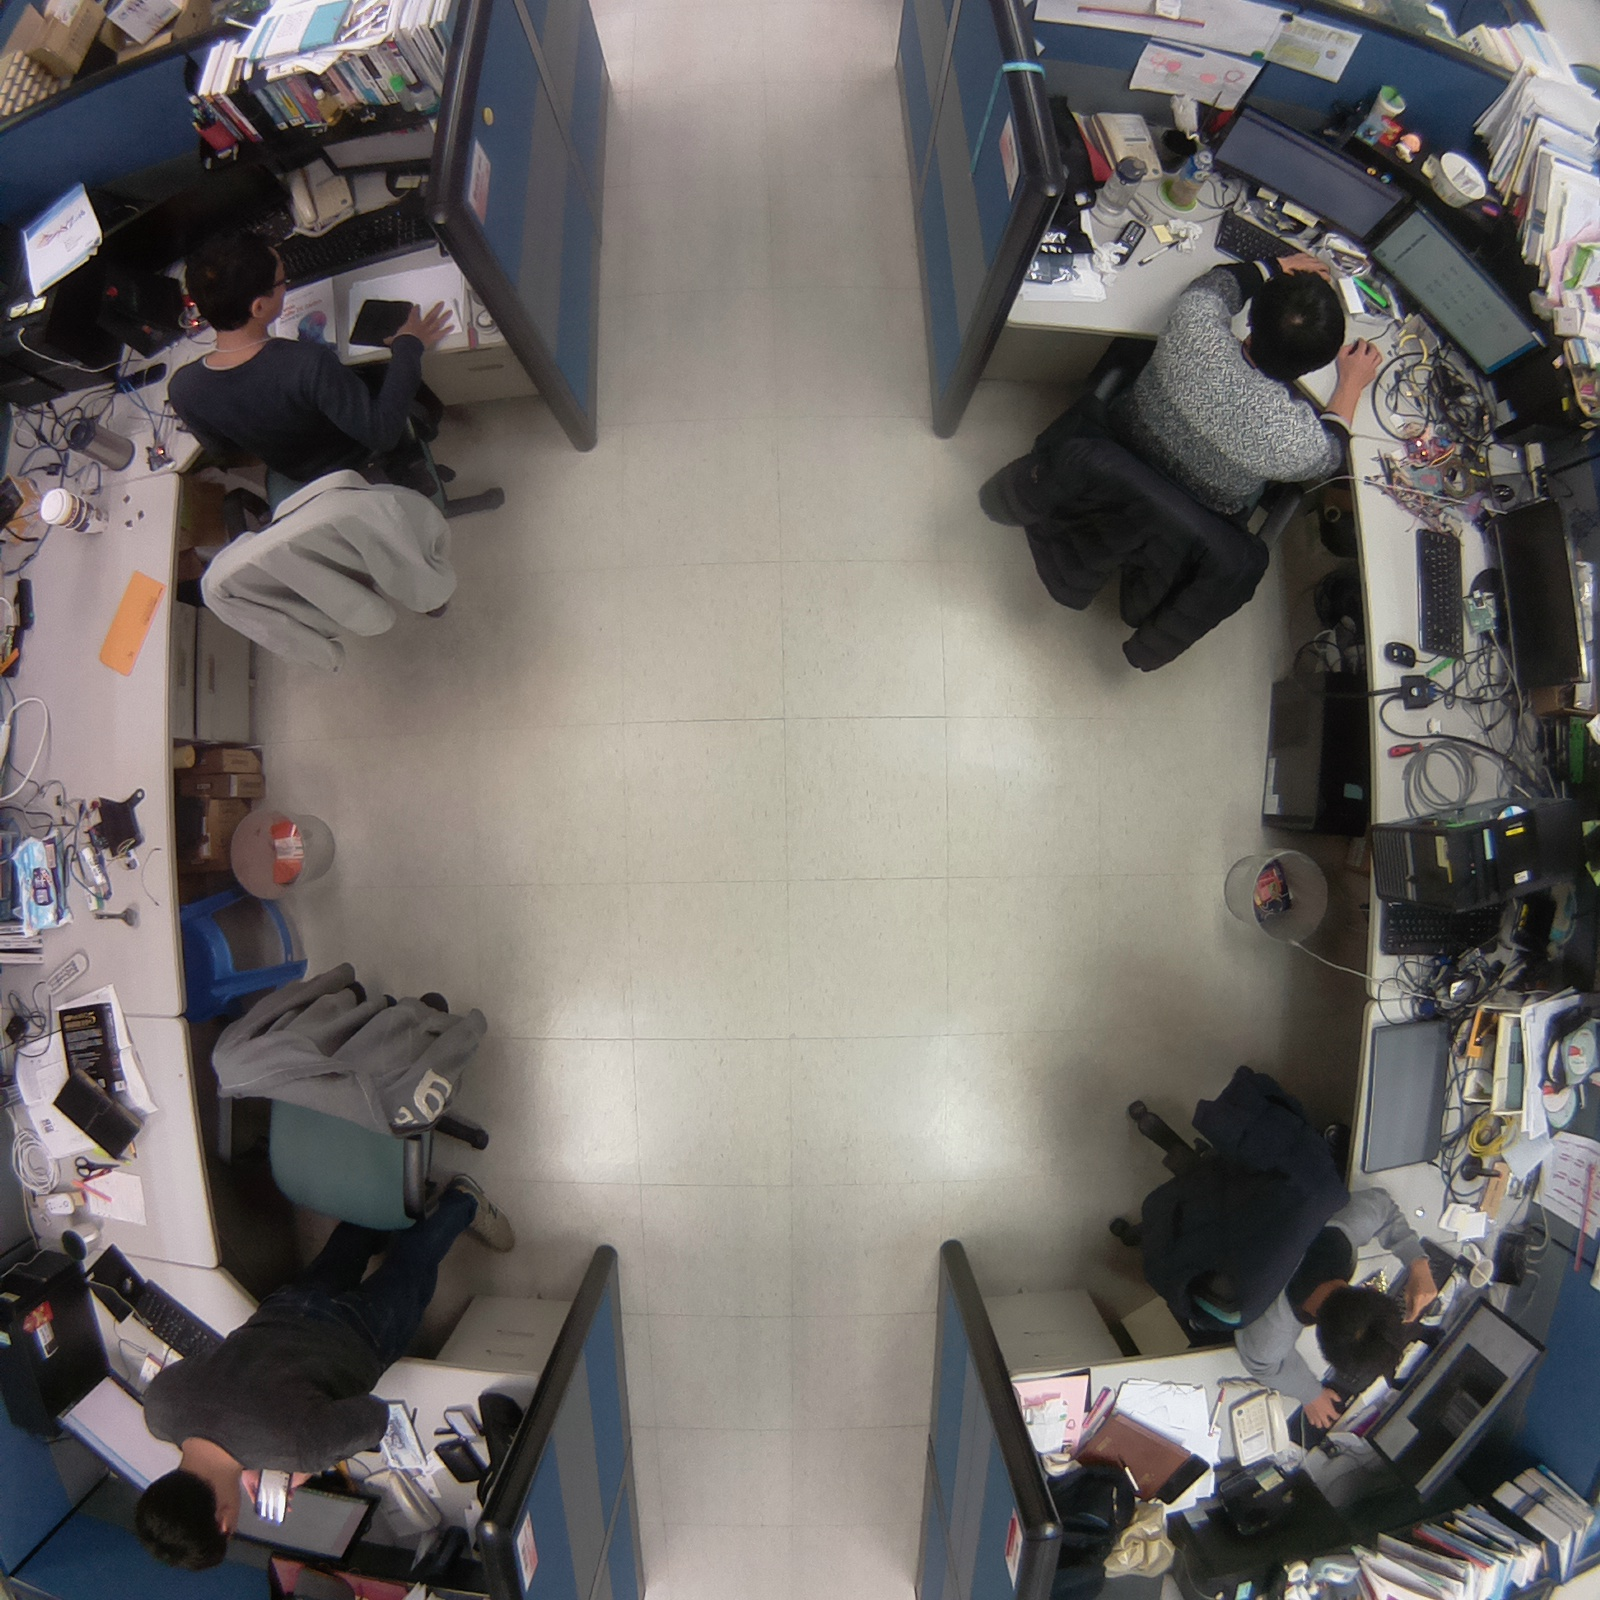chair: (195, 952, 519, 1247)
sitting: (954, 234, 1411, 690), (147, 217, 525, 686), (1078, 1039, 1470, 1455)
standing: (116, 1171, 541, 1582)
